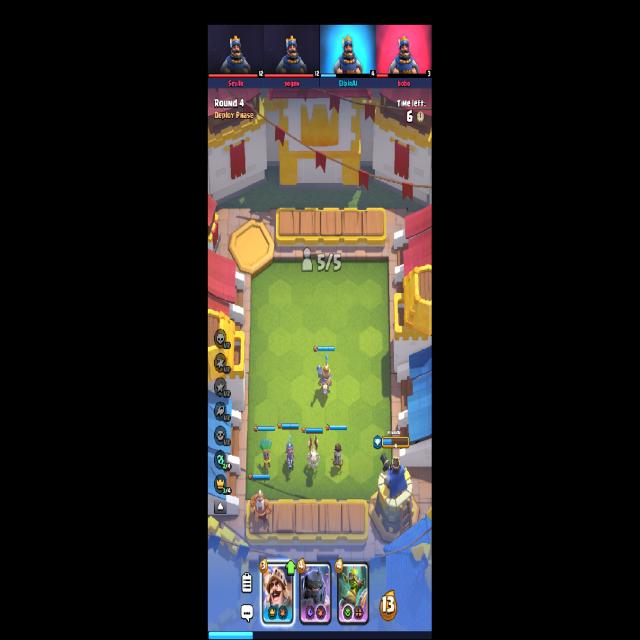card_goblin_machine: (337, 558, 370, 626)
card_mega_knight: (299, 559, 332, 626)
card_prince: (260, 560, 294, 626)
dart_goblin: (260, 439, 272, 471)
monk: (249, 490, 272, 525)
musketeer: (284, 434, 295, 474)
prince: (318, 354, 332, 394)
princess: (330, 442, 346, 472)
skeleton_dragon: (306, 435, 321, 471)
